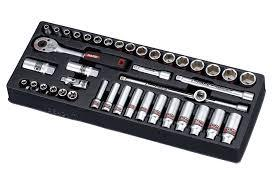wrench: (31, 34, 126, 71)
